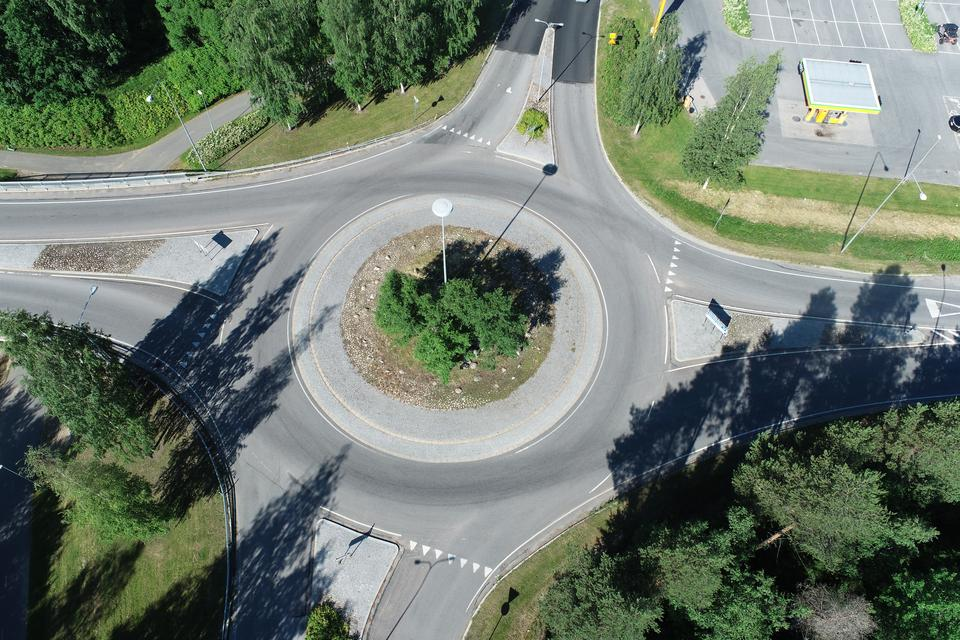roundabout: (173, 114, 735, 605)
